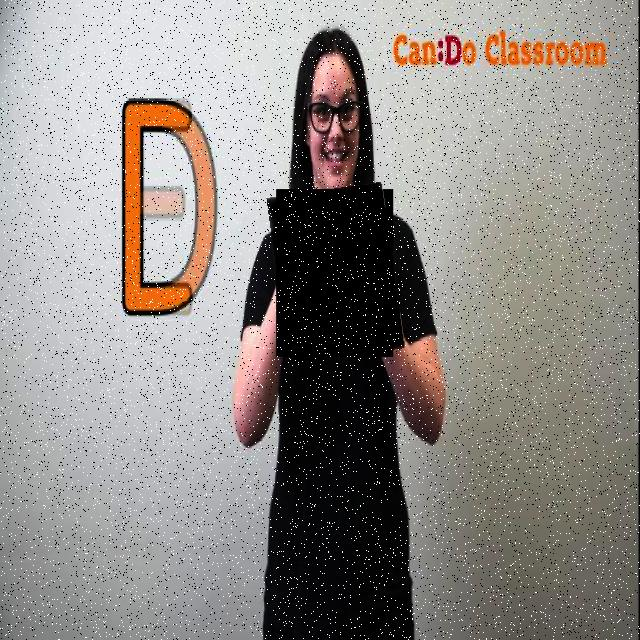D: (273, 187, 400, 361)
